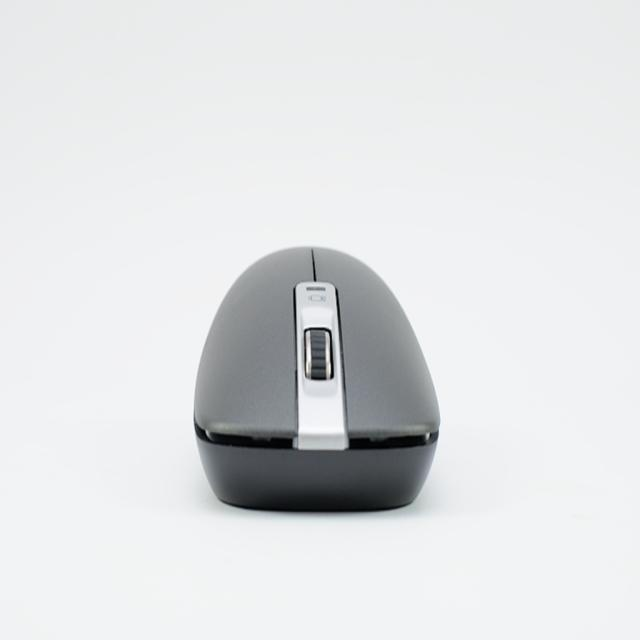Computer-mouse: (194, 246, 442, 508)
